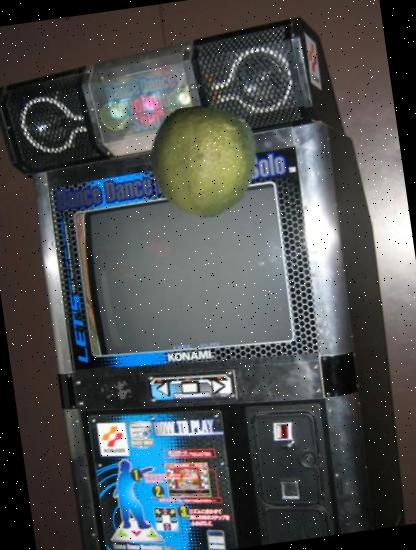Limes: (140, 98, 268, 226)
